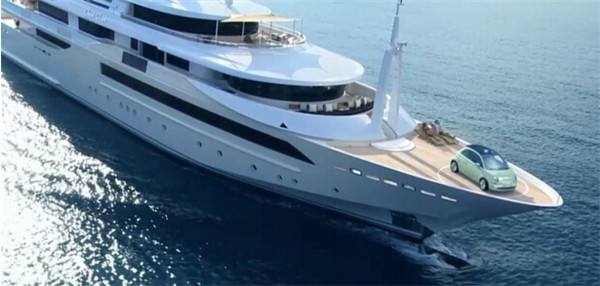yacht: (4, 1, 566, 250)
